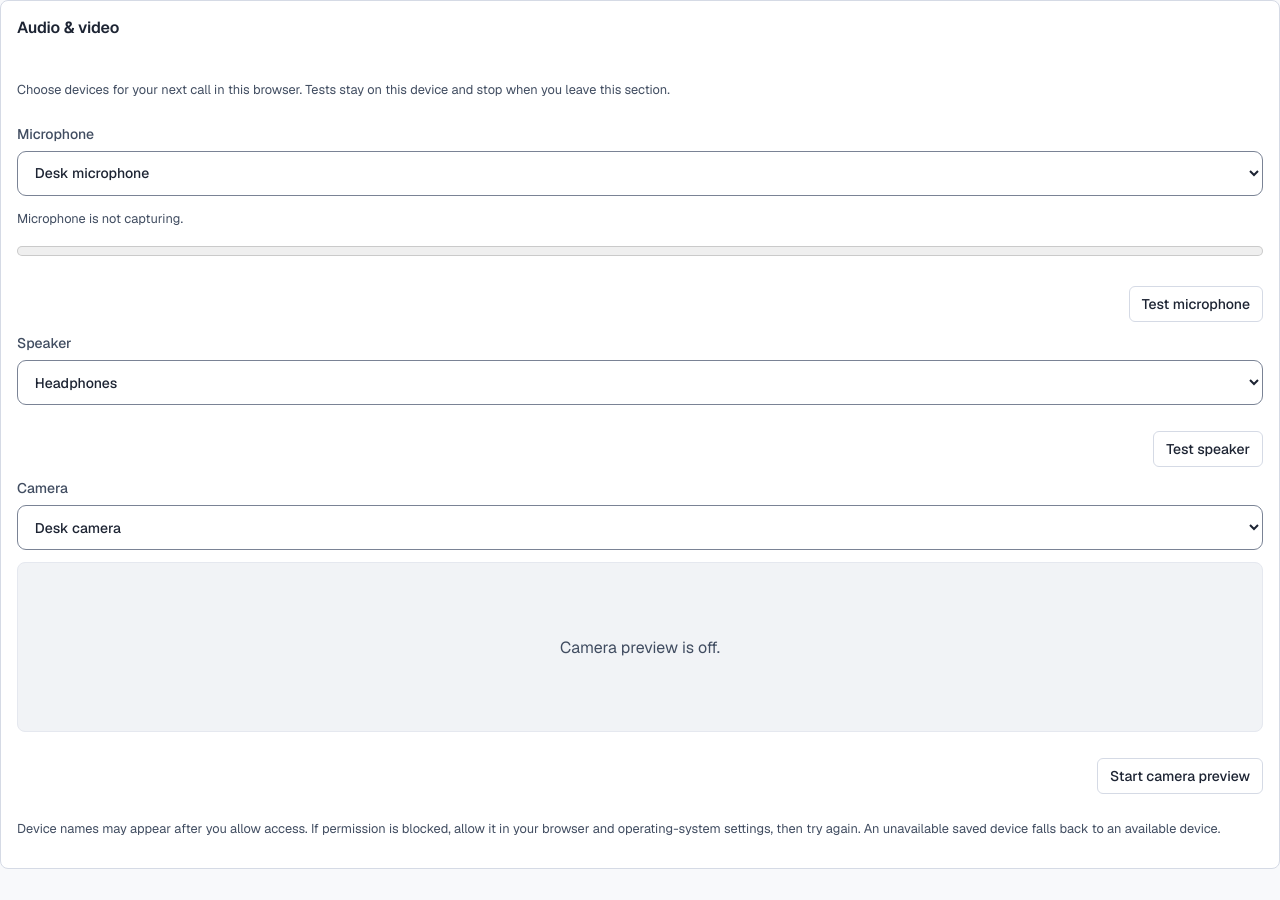
Test: AudioVideoSettings › shows recoverable permission guidance and never claims capture after denial
Click the button "Test microphone". click: (1196, 304)
box: x1=1129 y1=286 x2=1263 y2=322
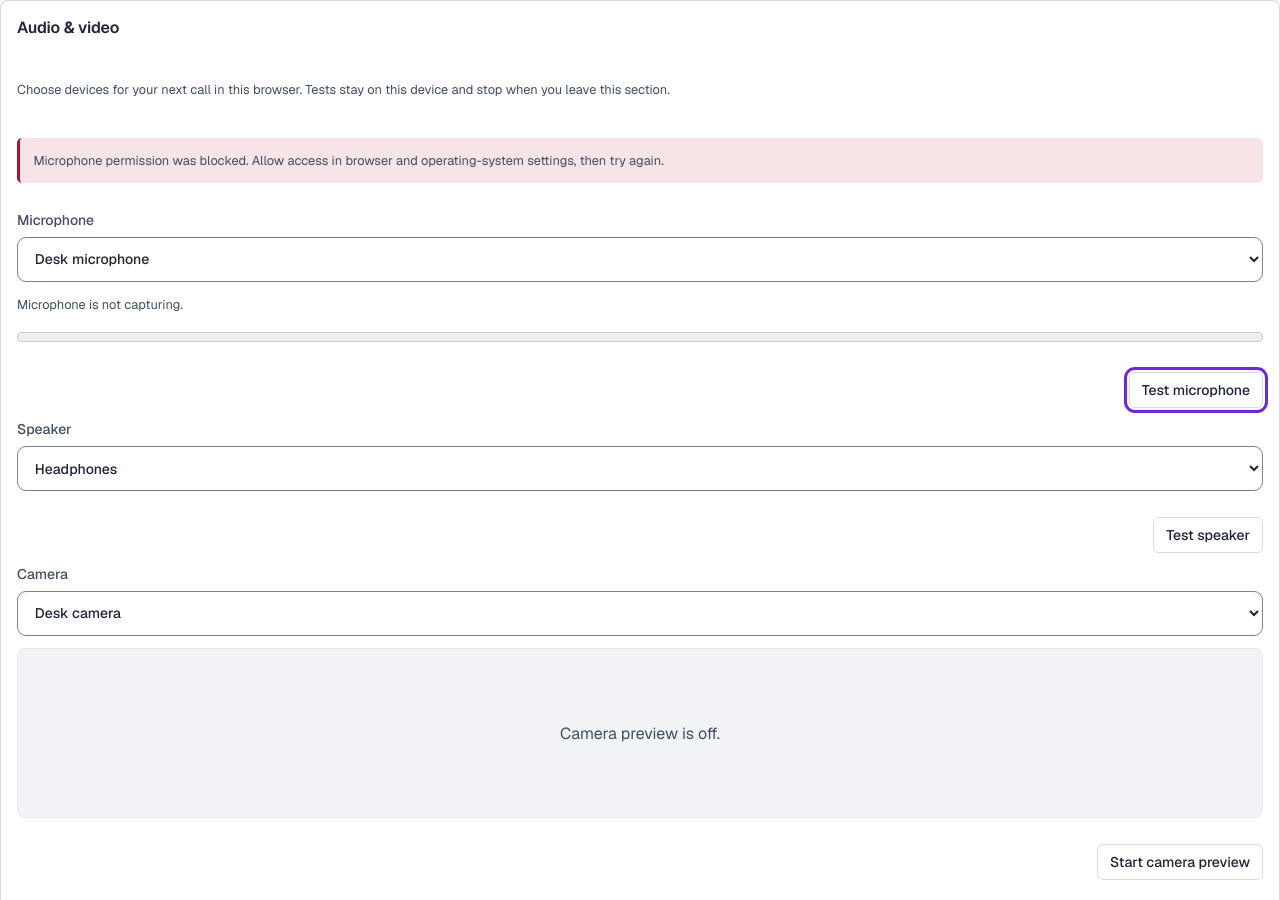
Expected: the text "Microphone is not capturing." is shown, x1=17 y1=296 x2=183 y2=313
Expected: the message shows "permission was blocked", x1=34 y1=152 x2=664 y2=168
